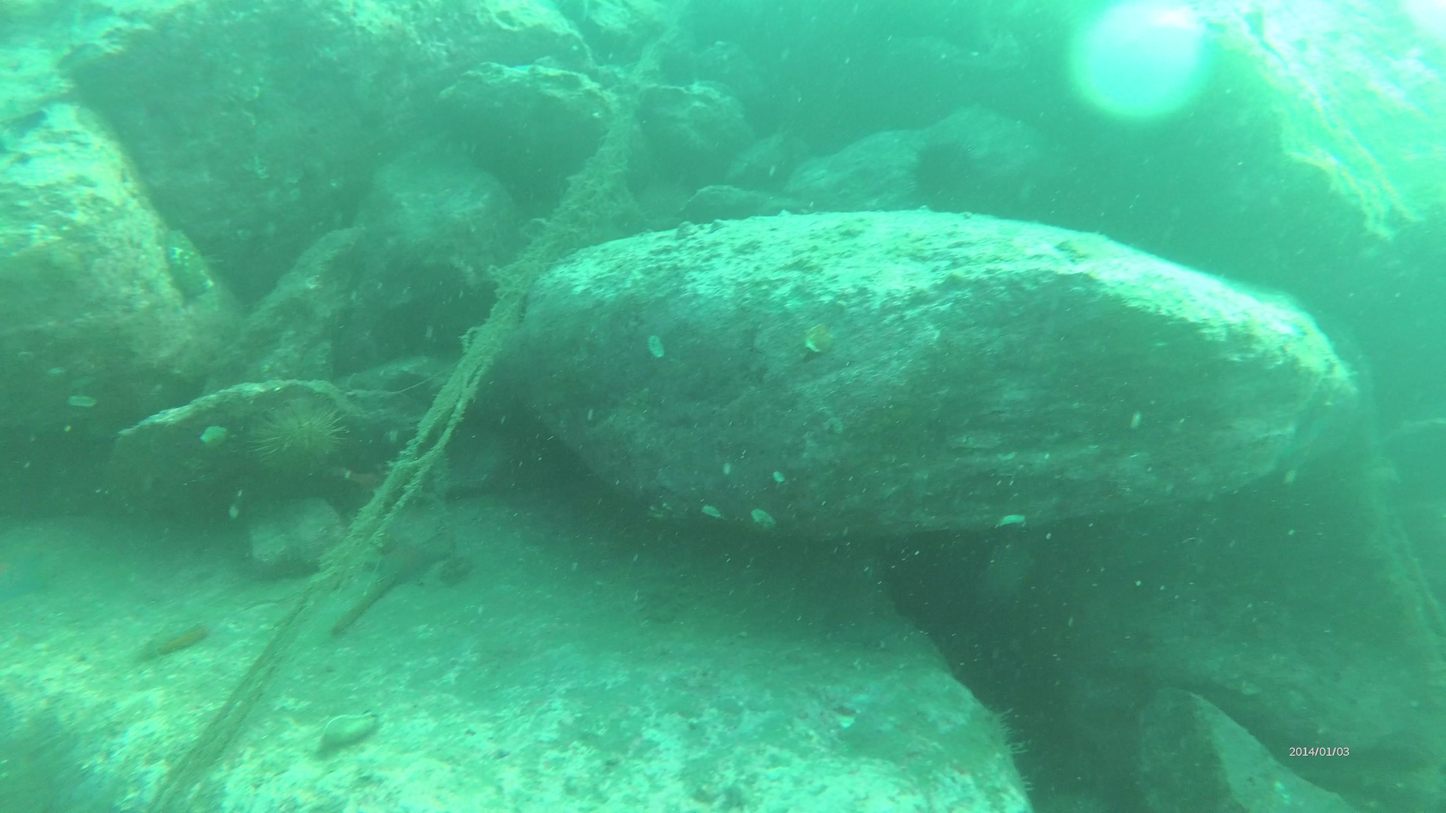starfish: (247, 399, 347, 488), (906, 137, 984, 216)
